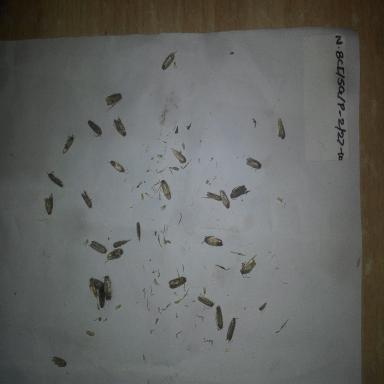pbw: (88, 272, 107, 305), (108, 112, 130, 140), (169, 141, 190, 170), (103, 245, 125, 270), (228, 182, 250, 206), (238, 255, 258, 281), (203, 227, 226, 249), (103, 91, 126, 113), (85, 118, 110, 138), (106, 155, 128, 176), (46, 169, 66, 192), (213, 302, 228, 332), (87, 237, 106, 260), (48, 352, 71, 371), (223, 317, 239, 344), (167, 273, 187, 294), (242, 155, 264, 174), (156, 178, 172, 204), (219, 181, 233, 210), (102, 270, 115, 301), (60, 132, 76, 156), (160, 50, 177, 72), (206, 187, 225, 206), (198, 292, 218, 310), (42, 194, 57, 218), (275, 116, 288, 143), (80, 190, 96, 210), (100, 284, 110, 314), (134, 219, 147, 242), (112, 237, 132, 249), (256, 298, 268, 316), (86, 326, 98, 342)
